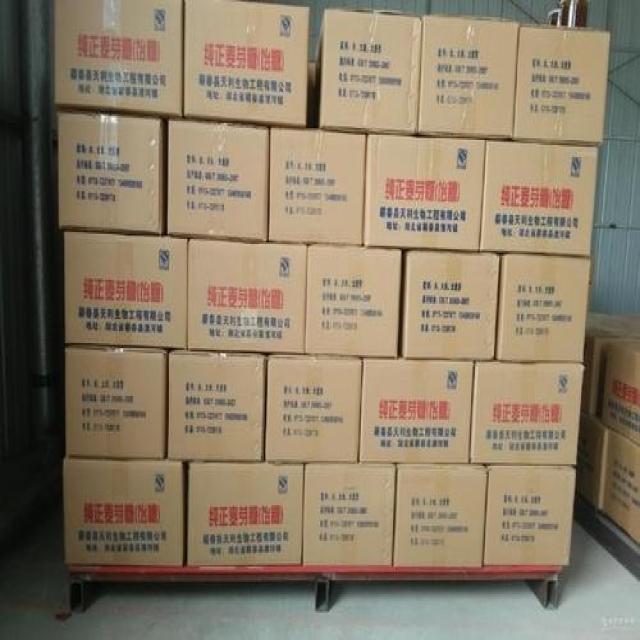box: (184, 1, 310, 127), (50, 1, 184, 116), (56, 105, 172, 236), (64, 229, 189, 350), (363, 133, 487, 250), (188, 237, 308, 354), (65, 456, 188, 568), (479, 142, 598, 256), (314, 11, 422, 136), (360, 349, 475, 463), (168, 116, 270, 242), (187, 458, 304, 566), (418, 16, 519, 141), (65, 346, 174, 458), (268, 125, 367, 246), (470, 361, 583, 465), (513, 25, 610, 144), (399, 248, 501, 359), (306, 244, 403, 359), (264, 353, 364, 463), (168, 350, 267, 460), (494, 252, 591, 363), (482, 463, 577, 567), (393, 463, 488, 566), (302, 462, 394, 565), (306, 61, 315, 128)
